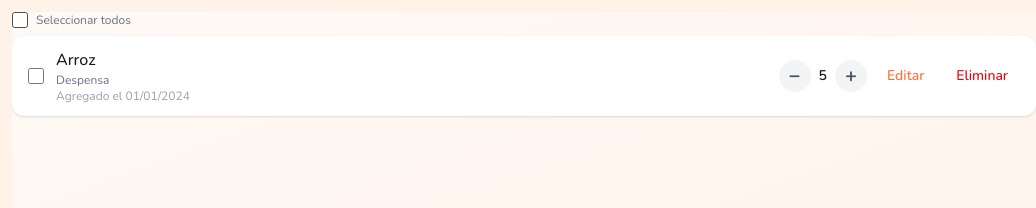
Test: ProductList — bulk delete › shows bulkError message when bulkDeleteProductsAction returns an error (lines 68-70)
Click the checkbox named "Seleccionar Arroz": point(36, 76) [28,68,44,84]
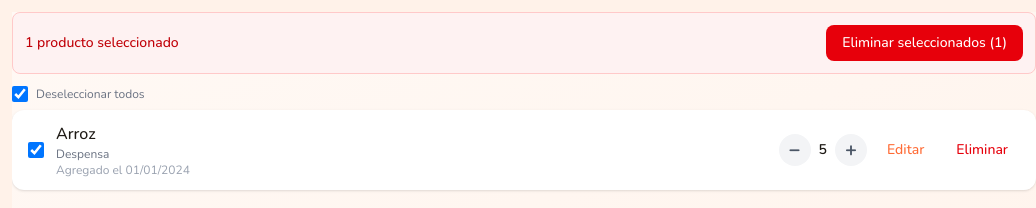
Result: the button "Eliminar seleccionados (1)" is shown
Click the button "Eliminar seleccionados (1)": point(925, 43) [826,25,1023,61]
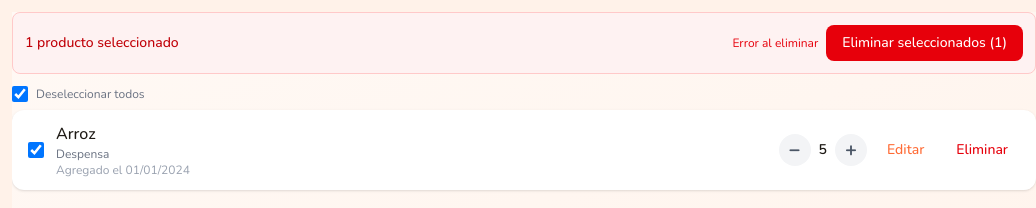
Result: the button "Eliminar seleccionados (1)" is shown at [826,25,1023,61]
Result: the text "Error al eliminar" is shown at [732,35,818,51]
